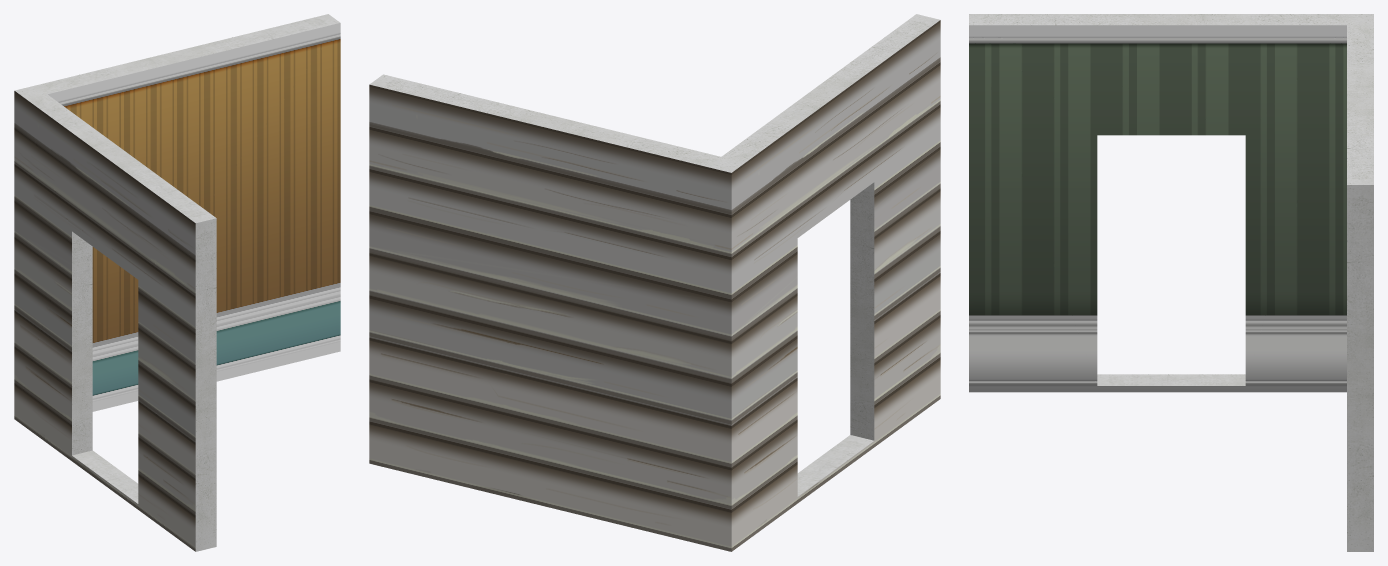
File: wall01_corner_A_door.fbx
3 renders of one model, left to right at view 1: azimuth 30°, elevation 25°; view 2: azimuth 150°, elevation 25°; view 3: azimuth 270°, elevation 25°, orthographic. The views are drawn at different scales.
Visible parts, largest first — view 1: wall01_corner_A_door; view 2: wall01_corner_A_door; view 3: wall01_corner_A_door.
Part boxes in pixels (x1,y1,x2,y2): wall01_corner_A_door: [14, 14, 340, 551]; wall01_corner_A_door: [369, 14, 940, 551]; wall01_corner_A_door: [969, 14, 1373, 551].
Size of the model in its own units: 300 by 300 by 300.
